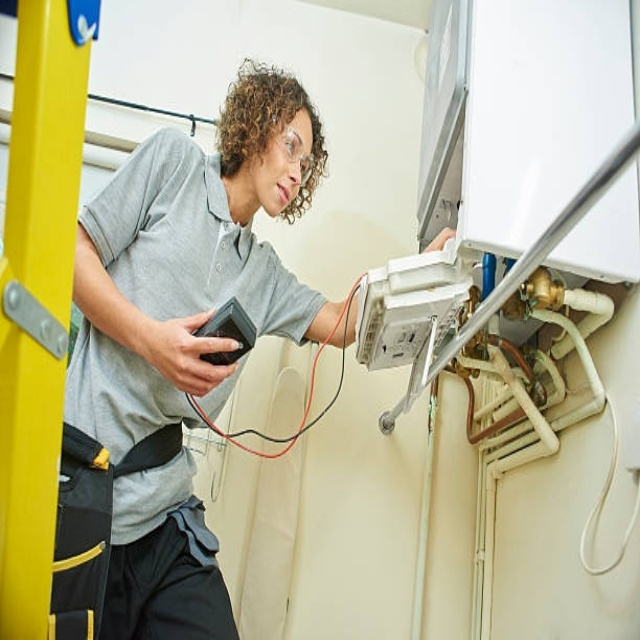Gafas: (274, 125, 313, 187)
Sin_guantes: (153, 306, 248, 401)
Sin_mascara: (265, 173, 293, 215)
